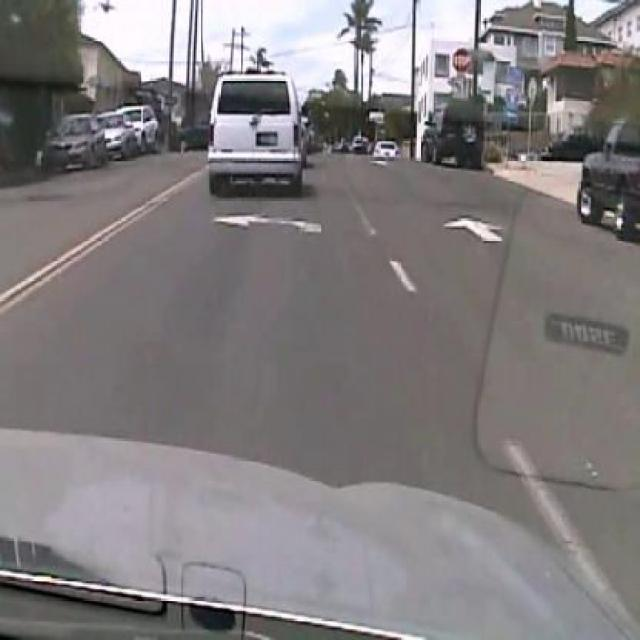Stop: (451, 46, 474, 74)
